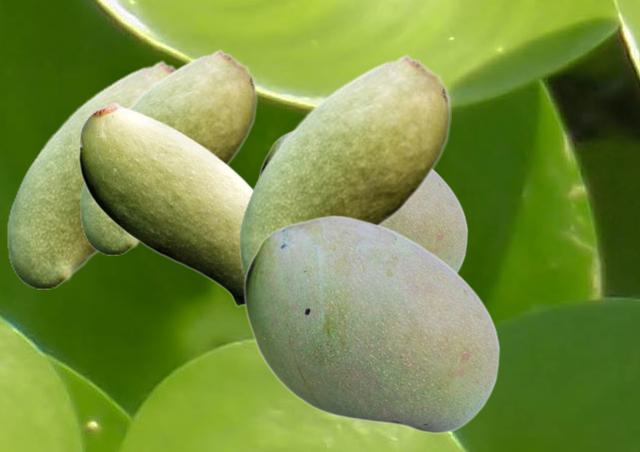green_mango: (243, 214, 499, 433), (238, 54, 450, 280), (6, 60, 176, 288), (79, 49, 256, 254), (78, 101, 251, 306), (258, 131, 467, 272)
